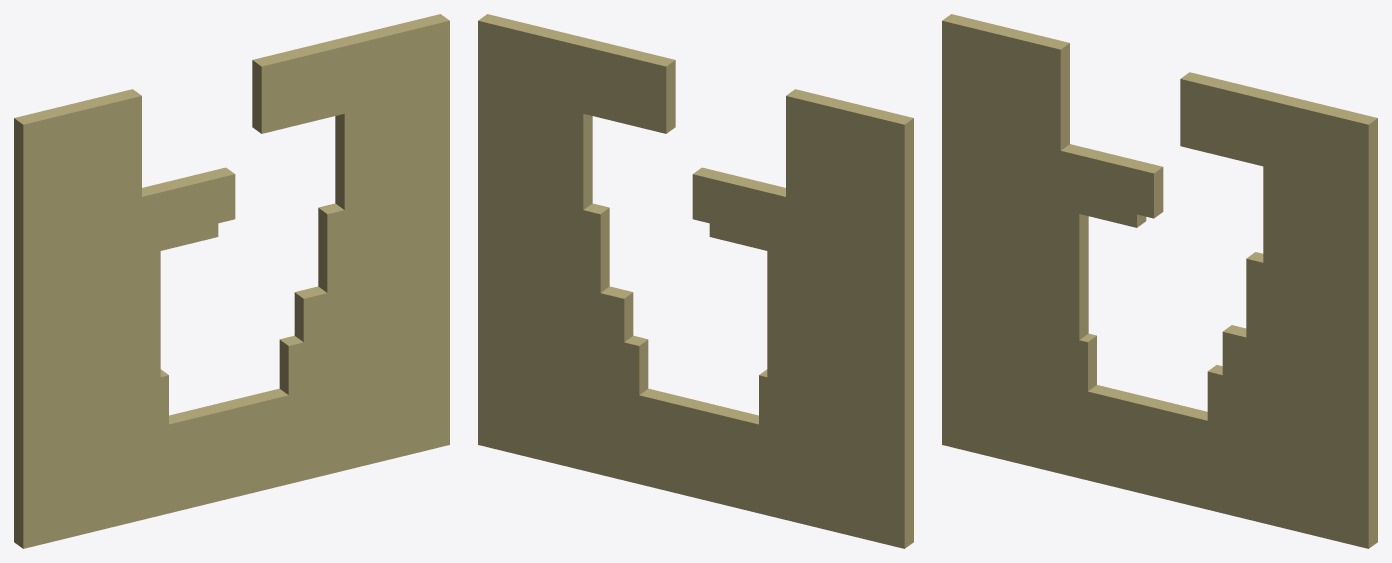
File: ruin11.fbx
3 views of the same model, side by side, from view 1: azimuth 30°, elevation 25°; view 2: azimuth 150°, elevation 25°; view 3: azimuth 330°, elevation 25° (orthographic).
Parts seen in each view (by area): view 1: Boole; view 2: Boole; view 3: Boole.
Part boxes in pixels (x1,y1,x2,y2): Boole: (14, 14, 449, 548); Boole: (478, 14, 913, 548); Boole: (942, 14, 1377, 548).
Size of the model in its own units: 344 by 327 by 12.88.
